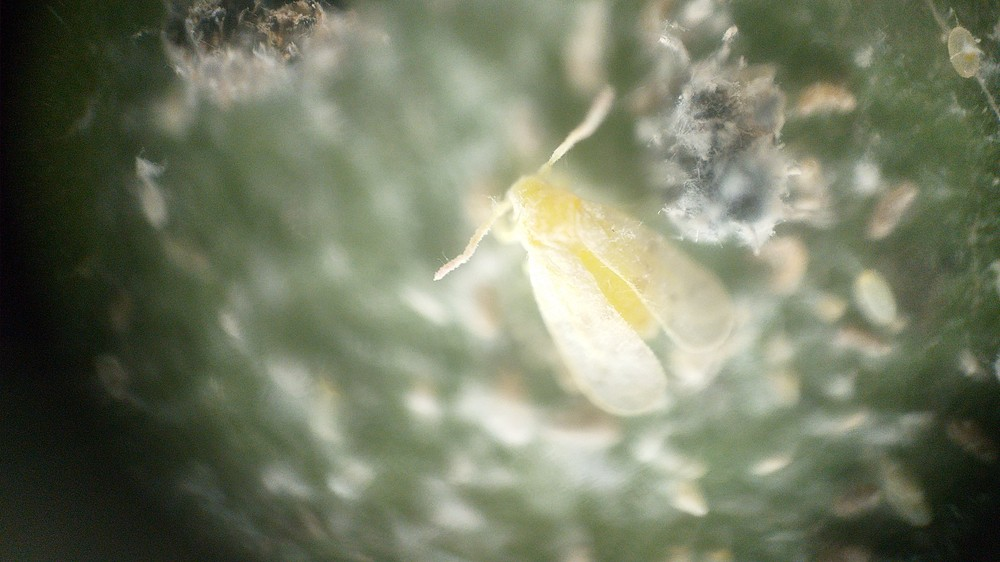Mosca Blanca: (424, 86, 765, 468)
